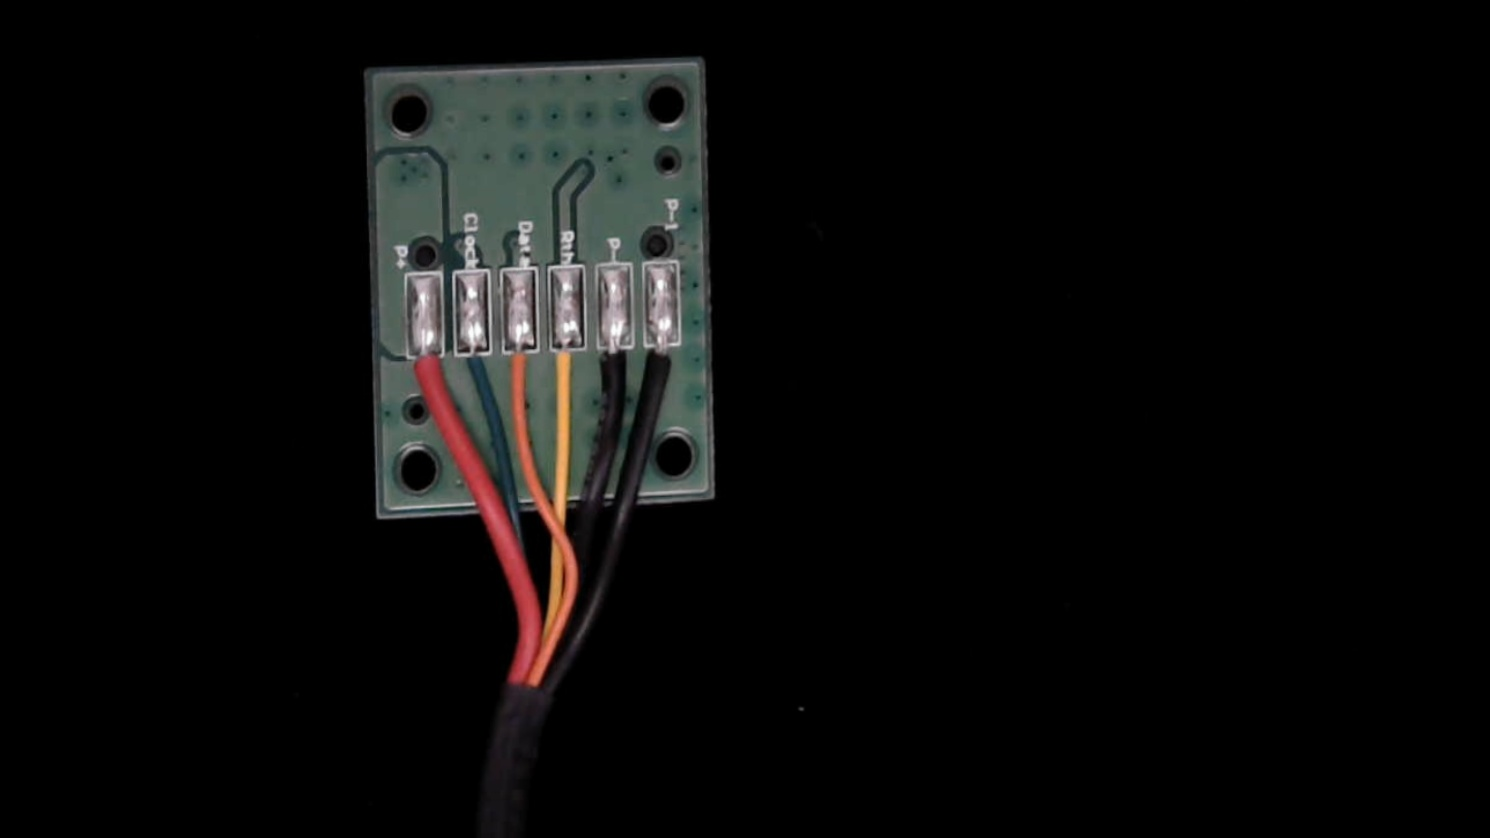Black: (593, 327, 634, 426)
Black1: (643, 325, 683, 415)
Green: (455, 329, 494, 411)
Orange: (500, 327, 539, 425)
Red: (406, 329, 448, 418)
Yellow: (547, 327, 589, 428)
